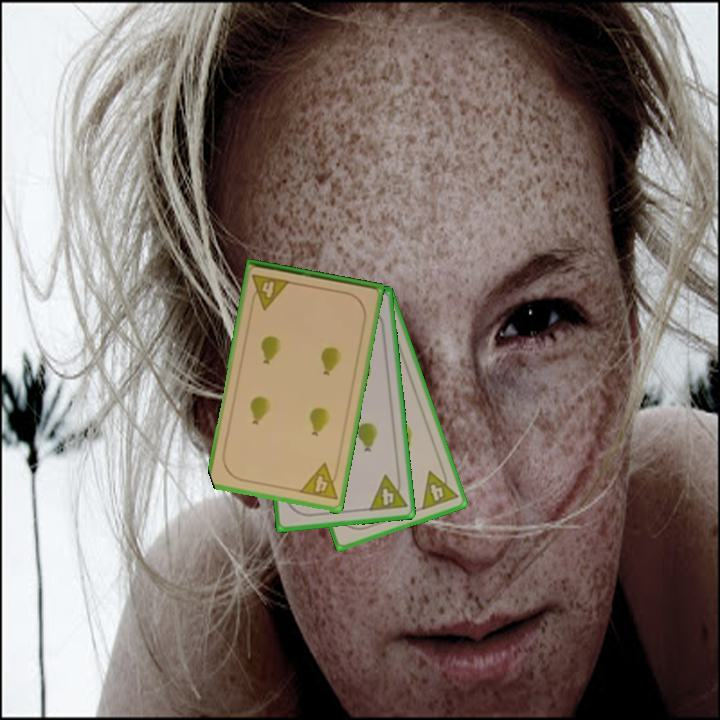4p: (418, 463, 461, 513), (365, 470, 410, 514), (296, 460, 342, 503), (247, 271, 293, 313)
